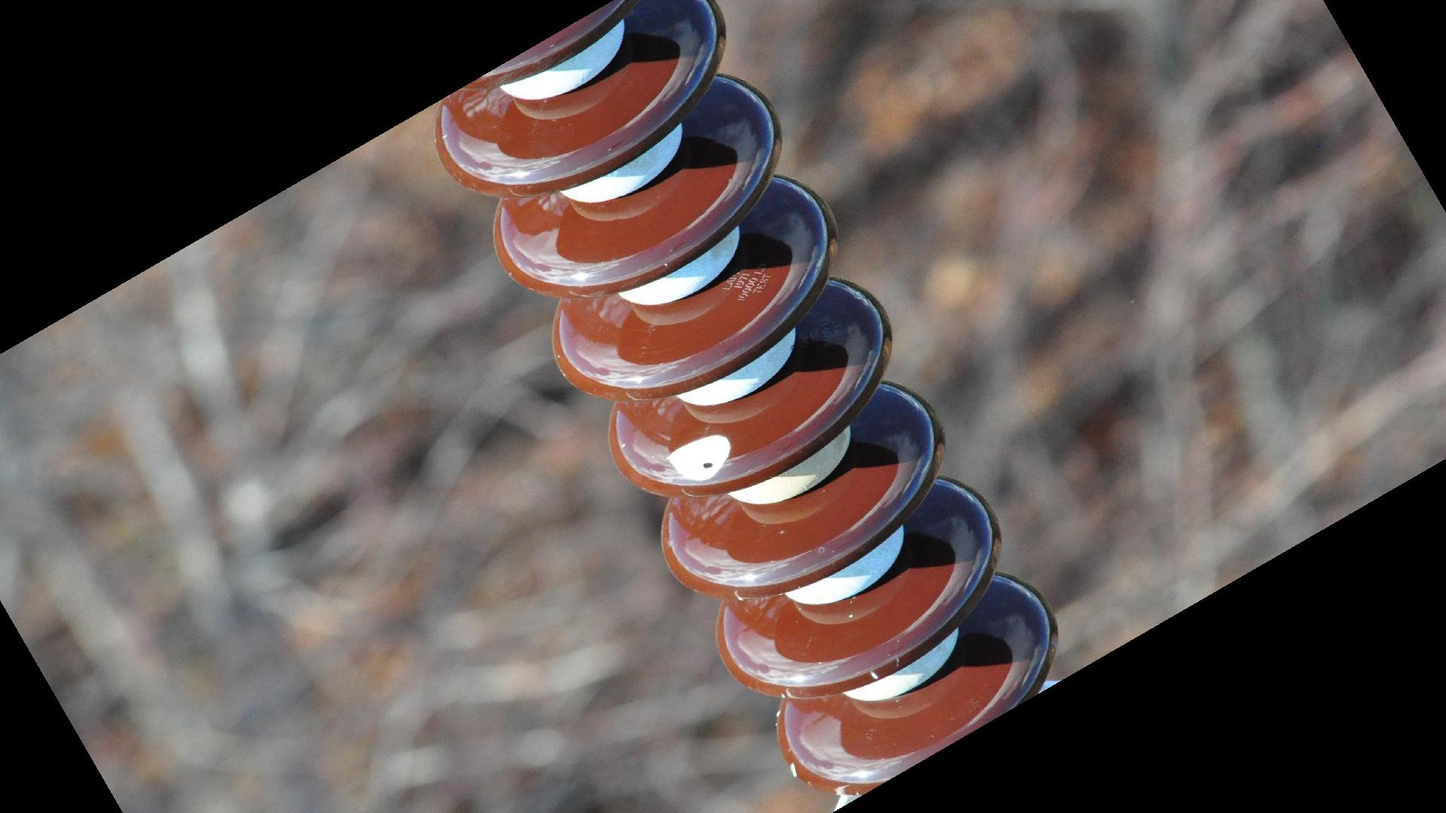insulator: (424, 1, 1075, 813)
insulator_breakage: (655, 424, 739, 489)
